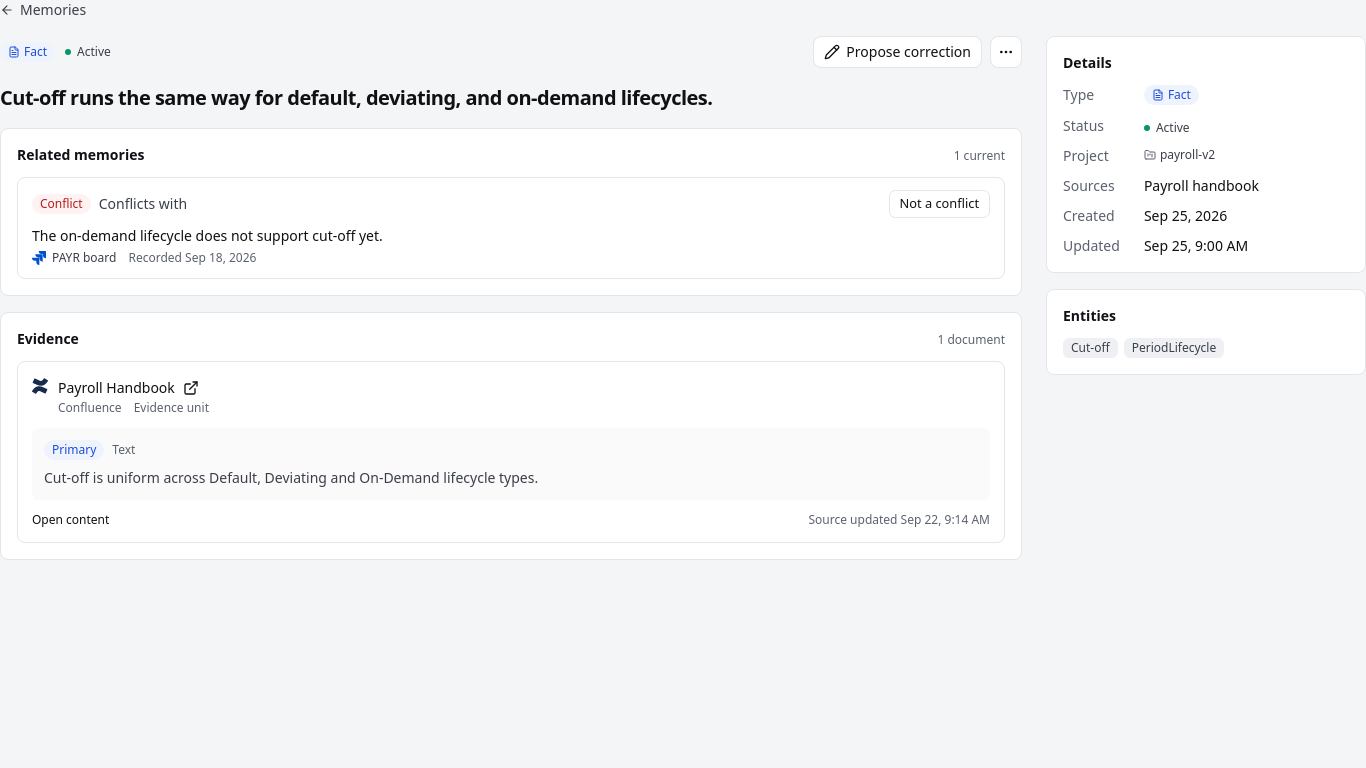
Test: retiring asks for a reason, guards against a changed memory, then shows the retired memory
Click the button named "More actions".
click(1006, 52)  # box x1=990 y1=36 x2=1022 y2=68
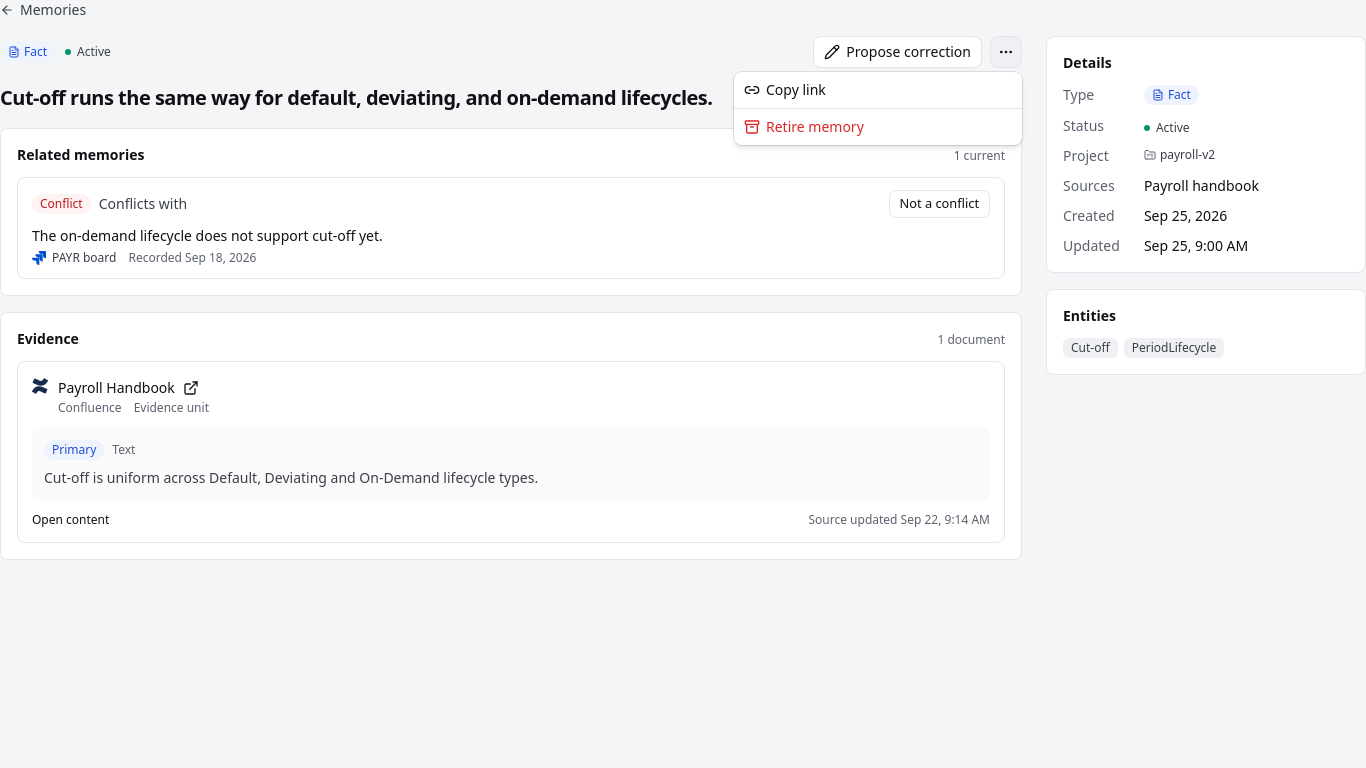
Click the menu item "Retire memory".
click(804, 126)  # box x1=744 y1=117 x2=864 y2=136
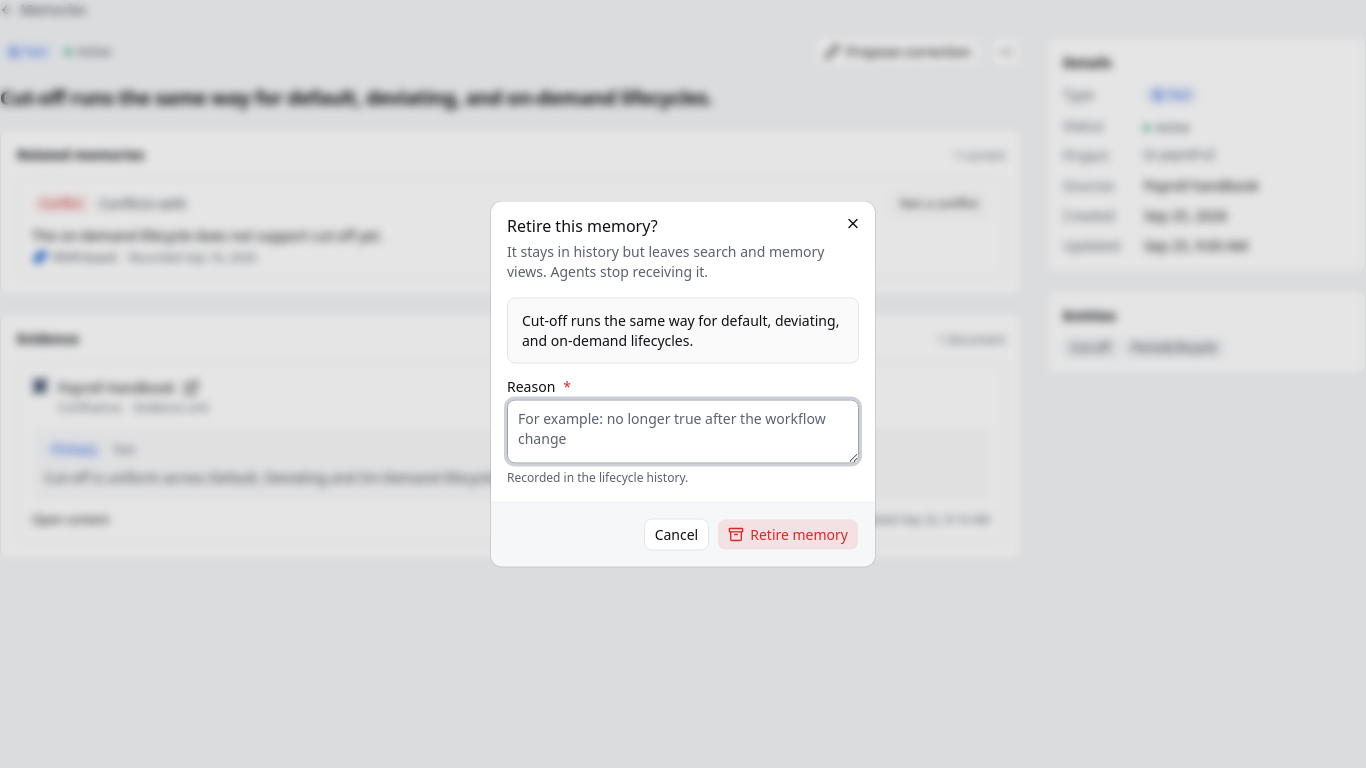
Click the button "Retire memory".
click(788, 534)  # box x1=717 y1=518 x2=859 y2=550
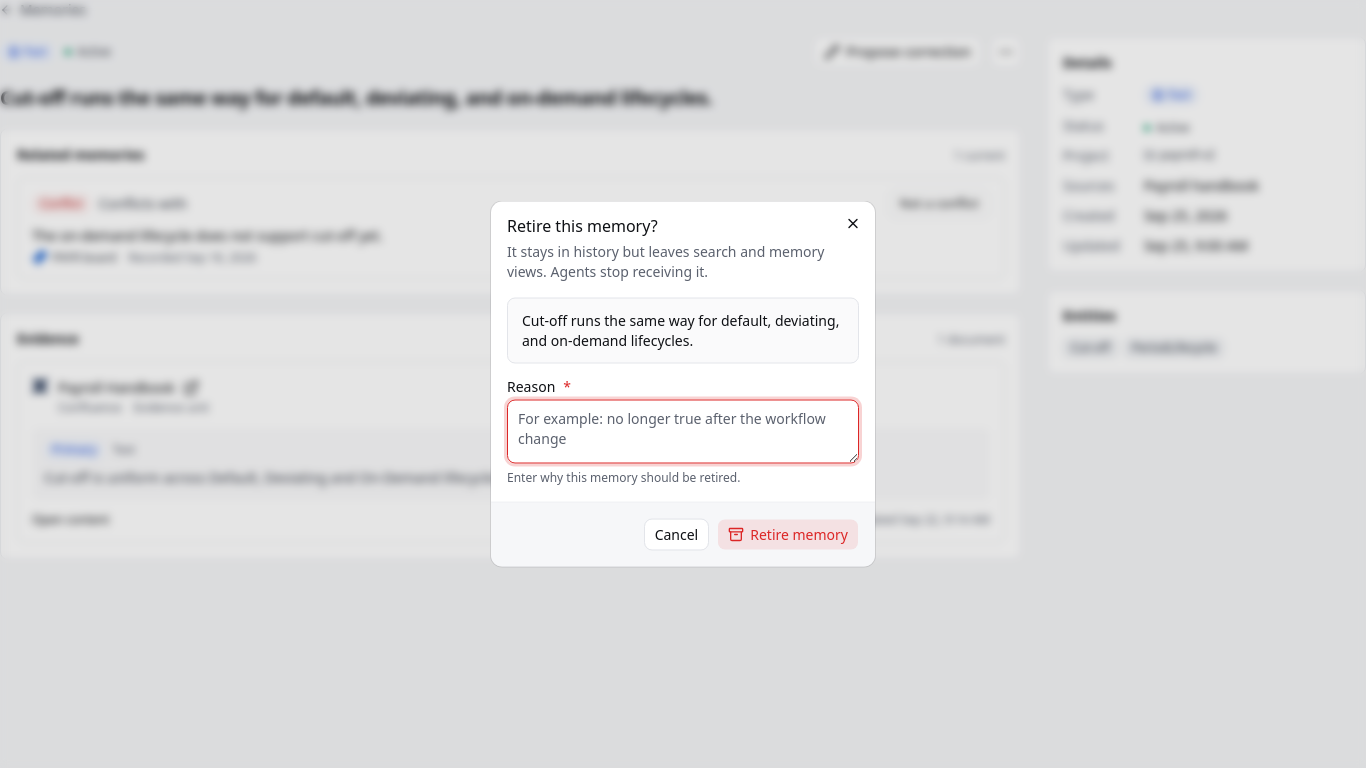
Now the text "Enter why this memory should be retired." is shown, box x1=507 y1=468 x2=740 y2=486
Type "No longer true after the workflow change" into the text box labelled "Reason *".
click(683, 432); type("No longer true after the workflow change")  # box x1=507 y1=400 x2=859 y2=464
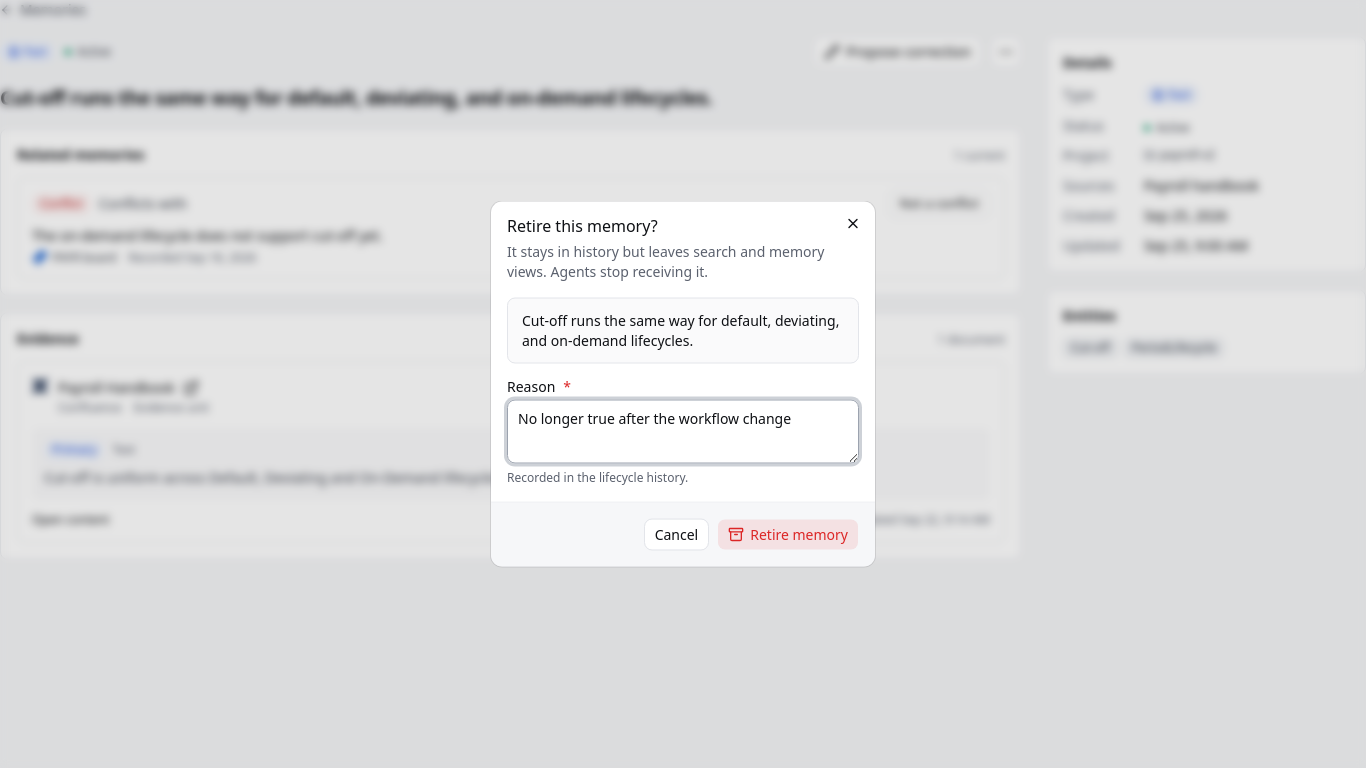
Click the button "Retire memory".
click(788, 534)  # box x1=717 y1=518 x2=859 y2=550
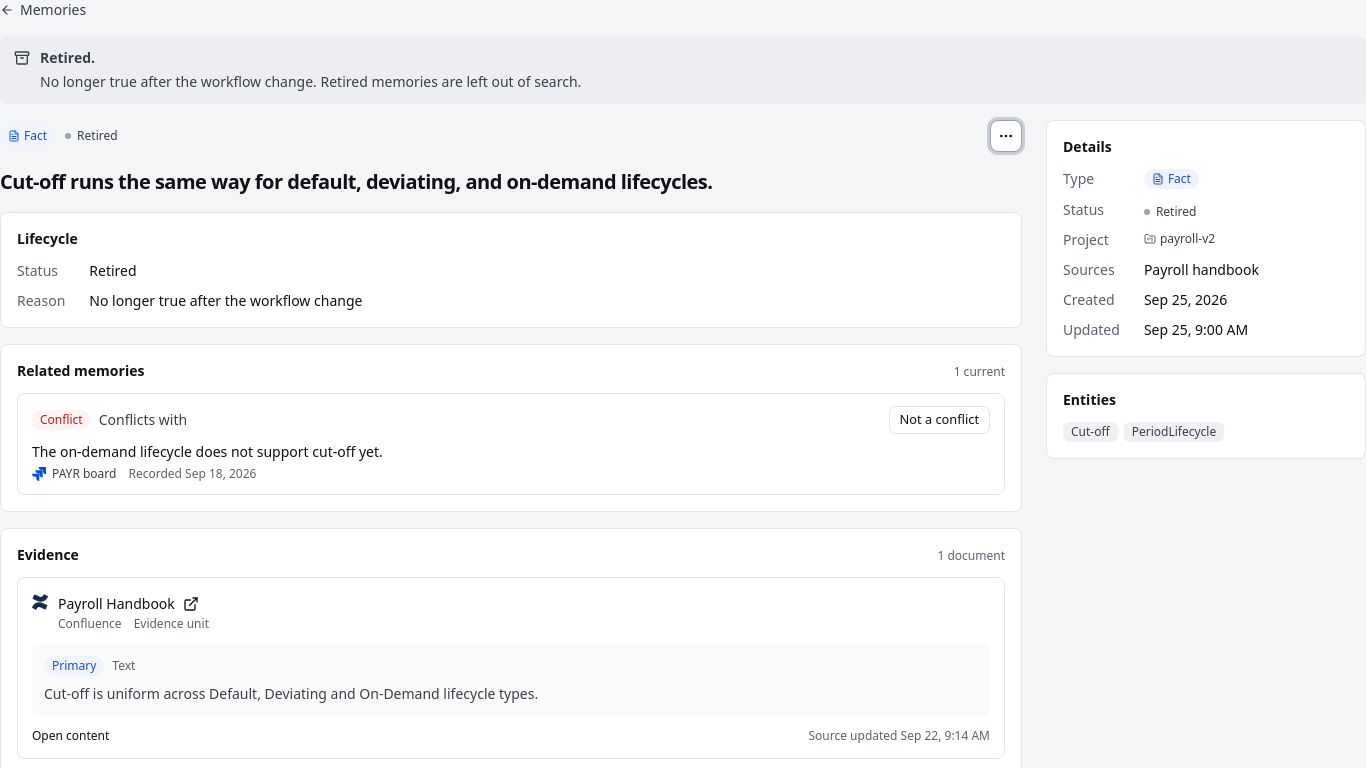
Now the text "Retired." is shown, box x1=40 y1=48 x2=95 y2=67
